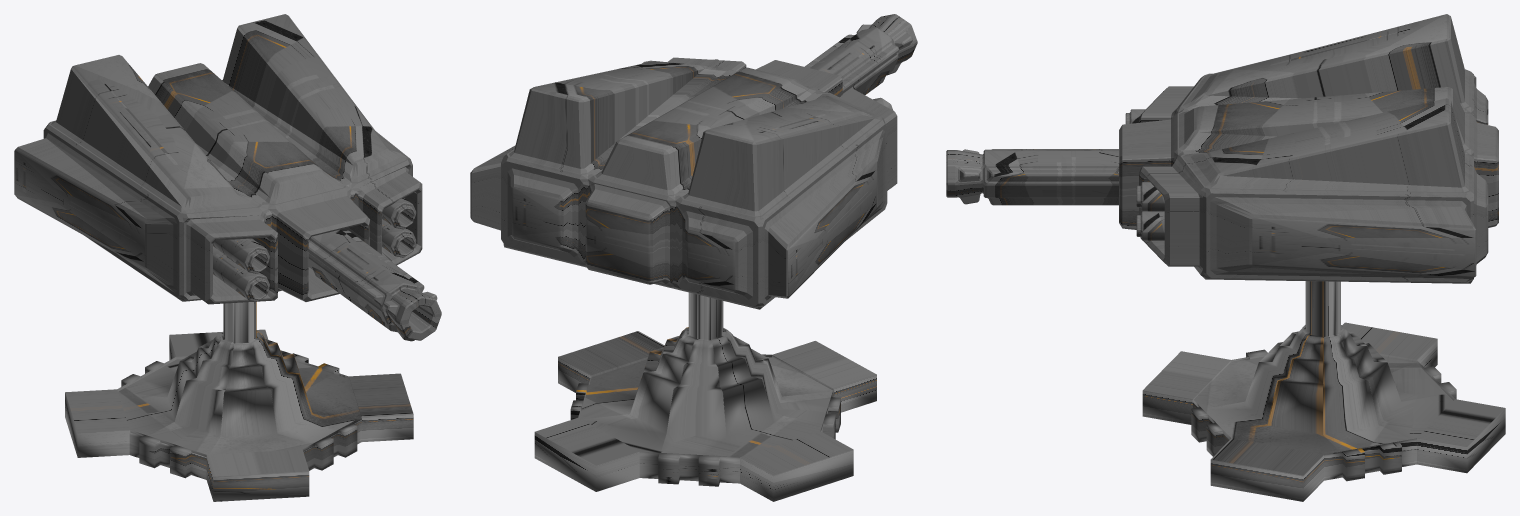
The model's file is tureta2.fbx.
3 views of the same model, side by side, from view 1: azimuth 30°, elevation 25°; view 2: azimuth 150°, elevation 25°; view 3: azimuth 270°, elevation 25° (orthographic). The views are drawn at different scales.
Visible parts, largest first — view 1: TankBase, Cylinder, TankCannon, Secondary1.001, Secondary1; view 2: TankBase, Cylinder, TankCannon; view 3: TankBase, Cylinder, TankCannon, Secondary1.
Part boxes in pixels (<box>): TankBase: <box>14,14,422,304</box>; Cylinder: <box>65,301,413,501</box>; TankCannon: <box>308,229,441,341</box>; Secondary1.001: <box>213,238,269,301</box>; Secondary1: <box>382,198,416,257</box>; TankBase: <box>470,57,897,309</box>; Cylinder: <box>534,292,876,501</box>; TankCannon: <box>804,14,917,94</box>; TankBase: <box>1119,14,1498,283</box>; Cylinder: <box>1142,281,1505,501</box>; TankCannon: <box>946,149,1118,205</box>; Secondary1: <box>1136,182,1164,240</box>.
Bounding box in the file's own units: 279 × 301 × 426.
Materials: 3 (3 with a texture image).
